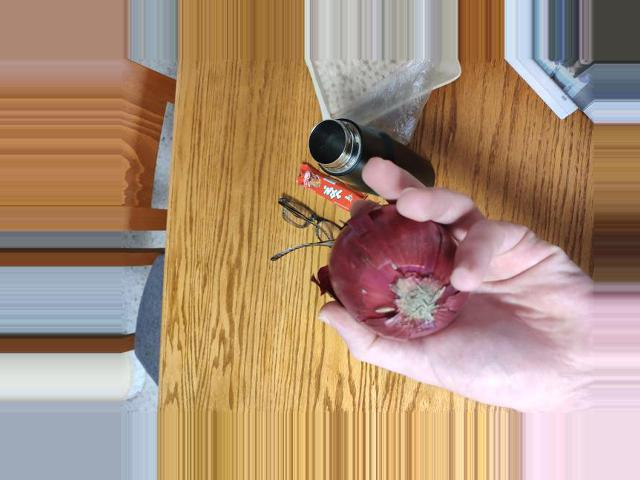onion: (343, 214, 461, 340)
